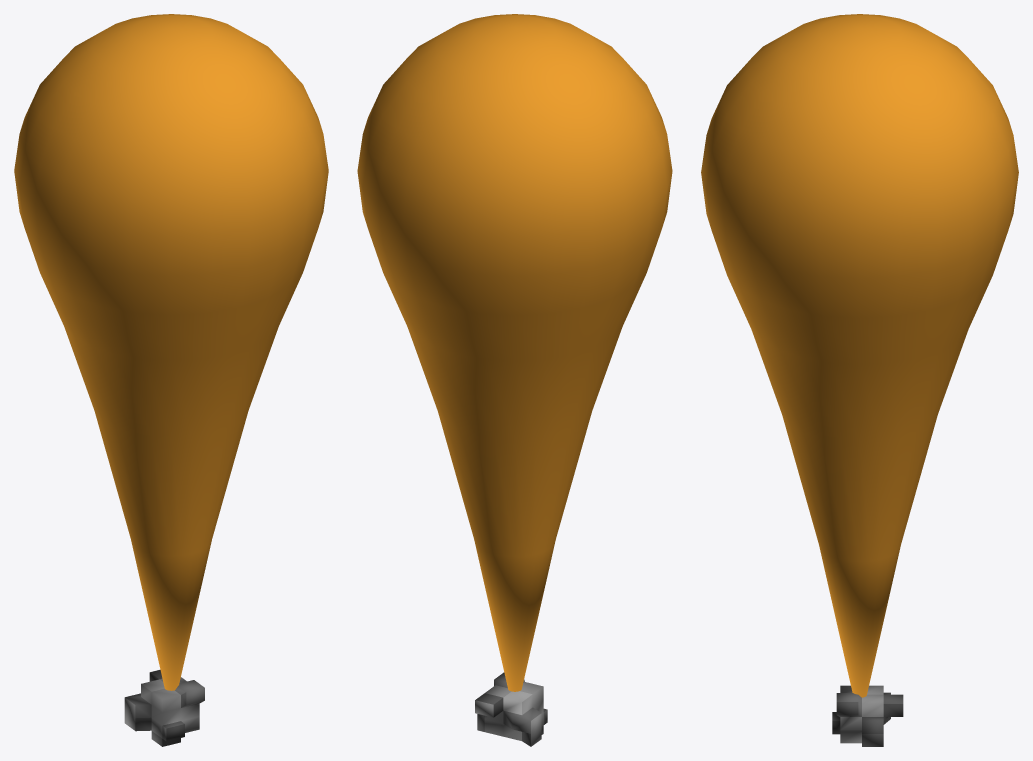
File: balloon_001.fbx
The picture shows the model from 3 angles, left to right: view 1: azimuth 30°, elevation 25°; view 2: azimuth 150°, elevation 25°; view 3: azimuth 270°, elevation 25°; orthographic projection.
Visible parts, largest first — view 1: balloon_001; view 2: balloon_001; view 3: balloon_001.
Boxes of the visible parts, left/top/right/bottom form: balloon_001: left=14, top=14, right=328, bottom=746; balloon_001: left=357, top=14, right=672, bottom=746; balloon_001: left=701, top=14, right=1018, bottom=746.
Size of the model in its own units: 2 by 4.96 by 2.
